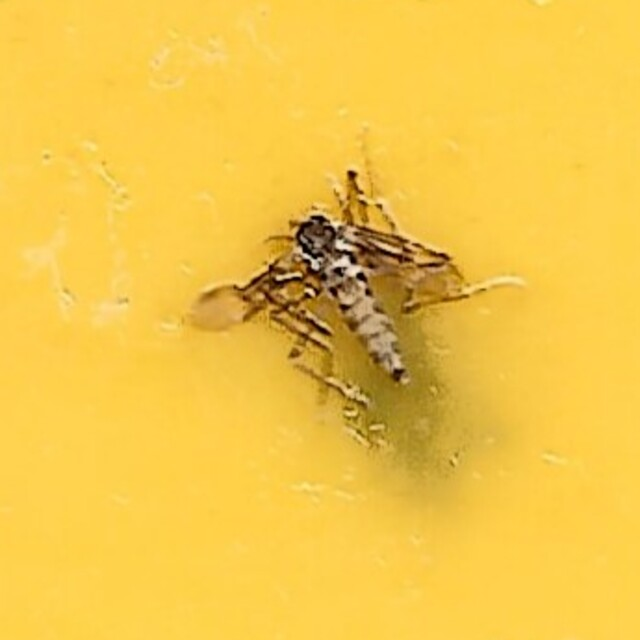Nematocera: (186, 196, 454, 444)
